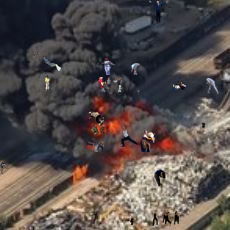Human: (152, 211, 180, 229), (148, 0, 169, 24), (119, 122, 139, 147), (74, 136, 104, 152), (195, 77, 219, 96), (0, 159, 26, 174), (88, 106, 107, 126), (98, 77, 122, 92), (140, 130, 156, 152), (97, 58, 116, 75), (43, 57, 61, 71), (154, 169, 166, 187), (190, 121, 206, 132), (91, 124, 106, 135), (173, 80, 187, 90), (88, 211, 98, 225), (130, 63, 141, 75), (45, 75, 50, 93), (196, 8, 204, 13), (130, 218, 135, 225), (33, 53, 39, 58), (137, 89, 140, 97), (110, 152, 113, 155), (157, 25, 159, 29), (51, 84, 52, 88), (220, 52, 222, 54), (212, 54, 213, 55)
